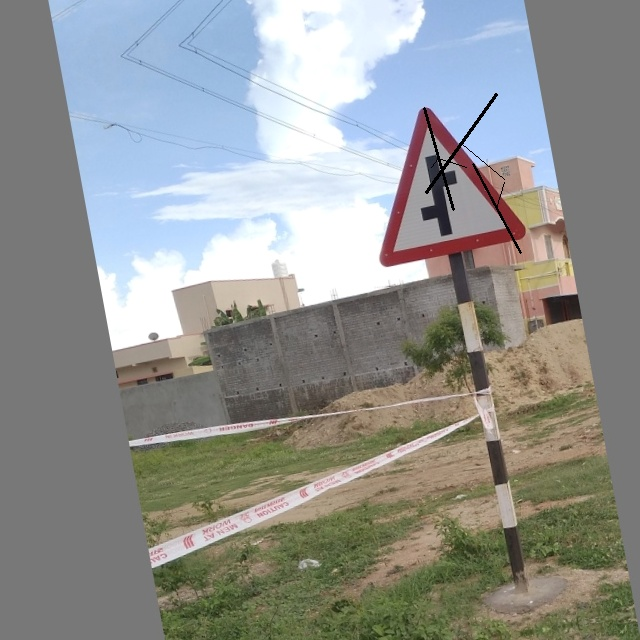Staggered_Intersection: (358, 82, 531, 265)
